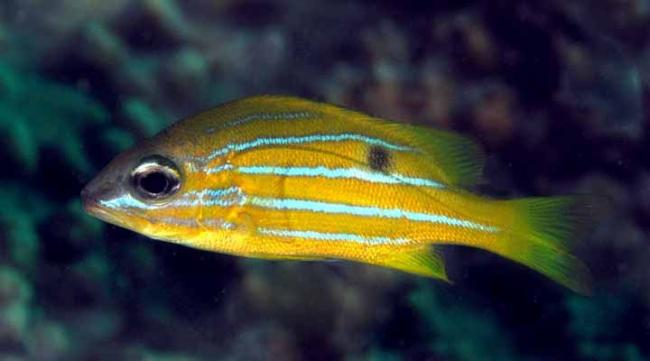fish: (79, 93, 599, 298)
